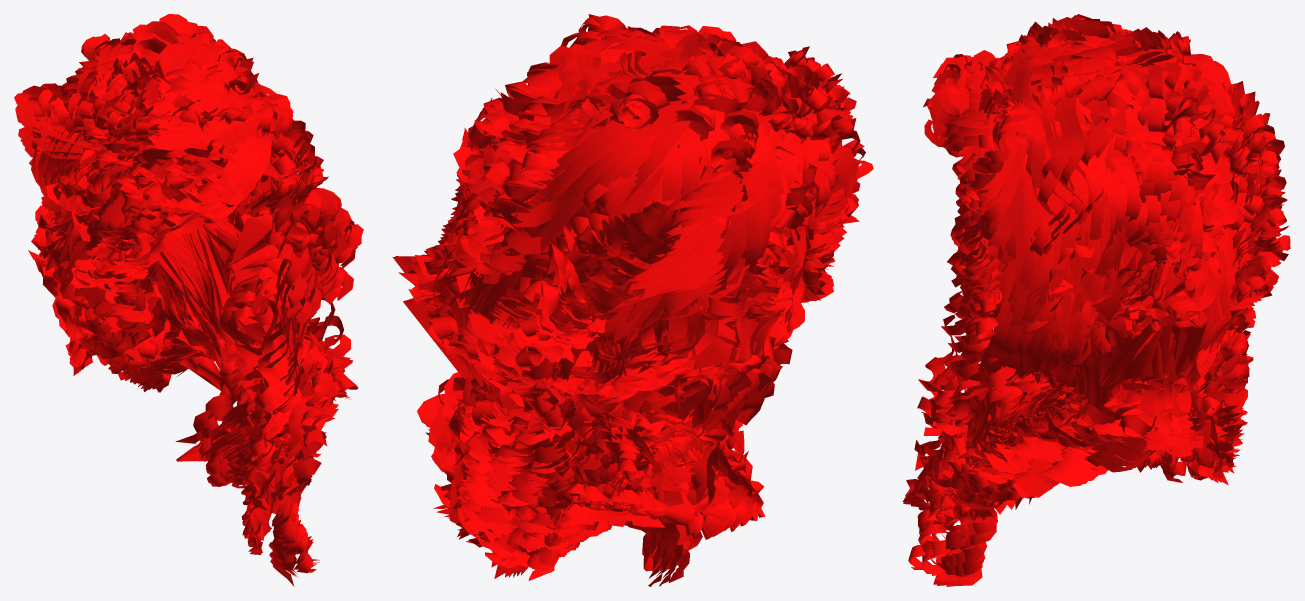
The model's file is o4saken_curly01_F.glb.
The picture shows the model from 3 angles, left to right: view 1: azimuth 30°, elevation 25°; view 2: azimuth 150°, elevation 25°; view 3: azimuth 270°, elevation 25°; orthographic projection. The views are drawn at different scales.
Size of the model in its own units: 0.2759 by 0.4526 by 0.3044.
Materials: 1 (1 with a texture image).
